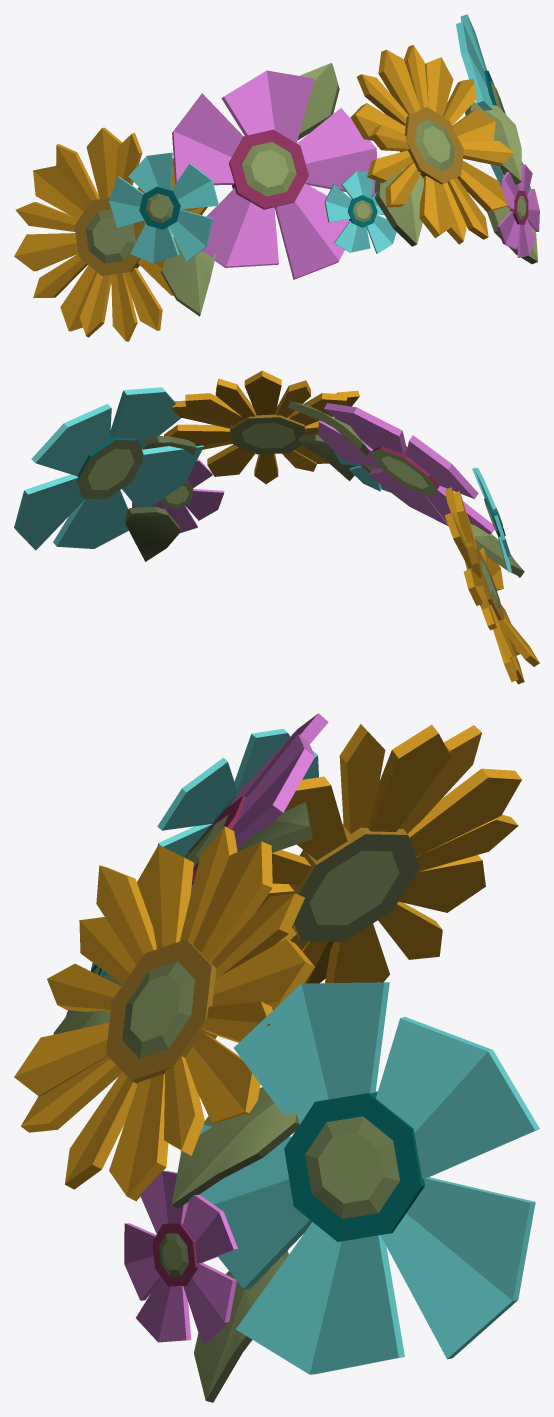
File: outfit-flowers.fbx
3 views of the same model, one above another, from view 1: azimuth 30°, elevation 25°; view 2: azimuth 150°, elevation 25°; view 3: azimuth 270°, elevation 25° (orthographic). The views are drawn at different scales.
Parts seen in each view (by area): view 1: flowers; view 2: flowers; view 3: flowers.
Boxes of the visible parts, bbox=[...] form: flowers: bbox=[14, 14, 539, 341]; flowers: bbox=[14, 370, 539, 684]; flowers: bbox=[14, 713, 539, 1402].
Size of the model in its own units: 0.0101 by 0.00458 by 0.00495.
